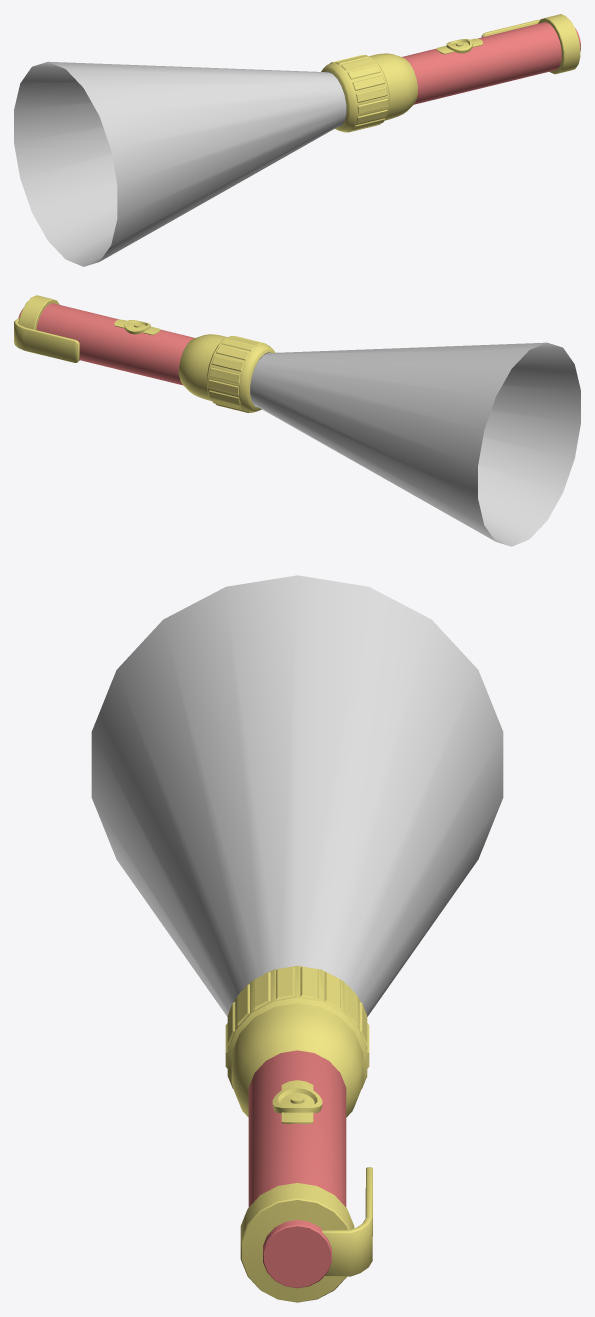
File: torchhigh.FBX
The picture shows the model from 3 angles, top to bottom: view 1: azimuth 30°, elevation 25°; view 2: azimuth 150°, elevation 25°; view 3: azimuth 270°, elevation 25°; orthographic projection. The views are drawn at different scales.
Parts seen in each view (by area): view 1: Cylinder002, Cylinder001; view 2: Cylinder002, Cylinder001; view 3: Cylinder002, Cylinder001.
Part boxes in pixels (x1,y1,x2,y2): Cylinder002: (14,61,346,266); Cylinder001: (321,14,580,132); Cylinder002: (250,342,580,546); Cylinder001: (14,295,275,412); Cylinder002: (91,575,503,1016); Cylinder001: (225,966,372,1302).
Size of the model in its own units: 583 by 209 by 206.
Materials: 1 (1 with a texture image).
